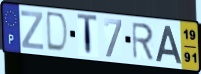7: (103, 17, 124, 59)
A: (155, 24, 184, 66)
D: (46, 10, 71, 55)
R: (131, 22, 156, 62)
T: (76, 13, 99, 59)
Z: (20, 10, 45, 52)
